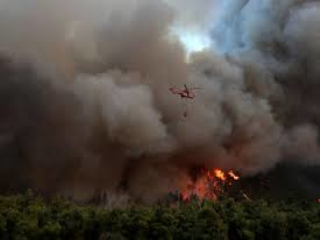fire: (182, 166, 248, 204)
smoke: (50, 28, 169, 205), (201, 7, 312, 164)
